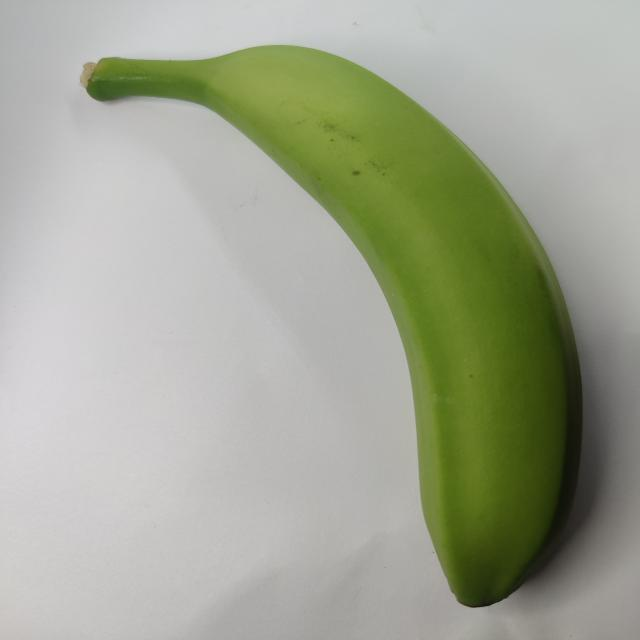Raw: (51, 23, 592, 616)
